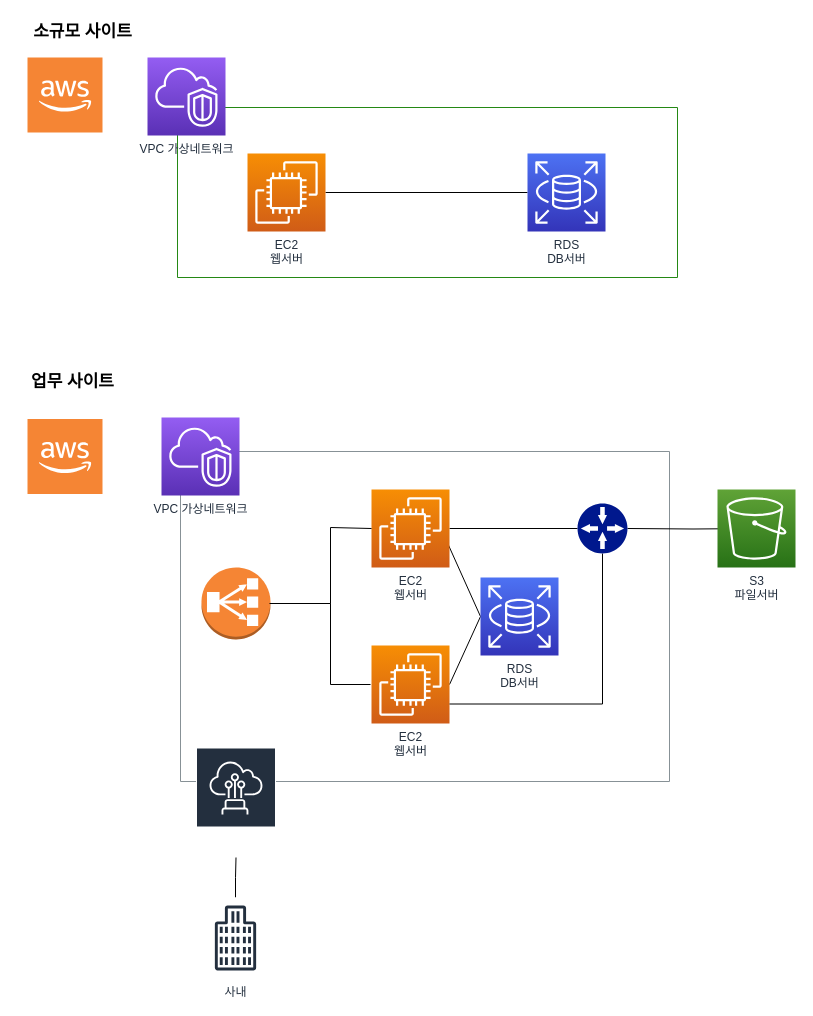
Image size: 813x1016. Some labels were removed from this diagram. Here are the shapes that lost their labels. From the top down, the centre of each, then its label:
(x=602, y=528): 게이트웨이 엔드포인트
(x=235, y=603): ELB 로드밸런서
(x=235, y=802): Direct Connect
